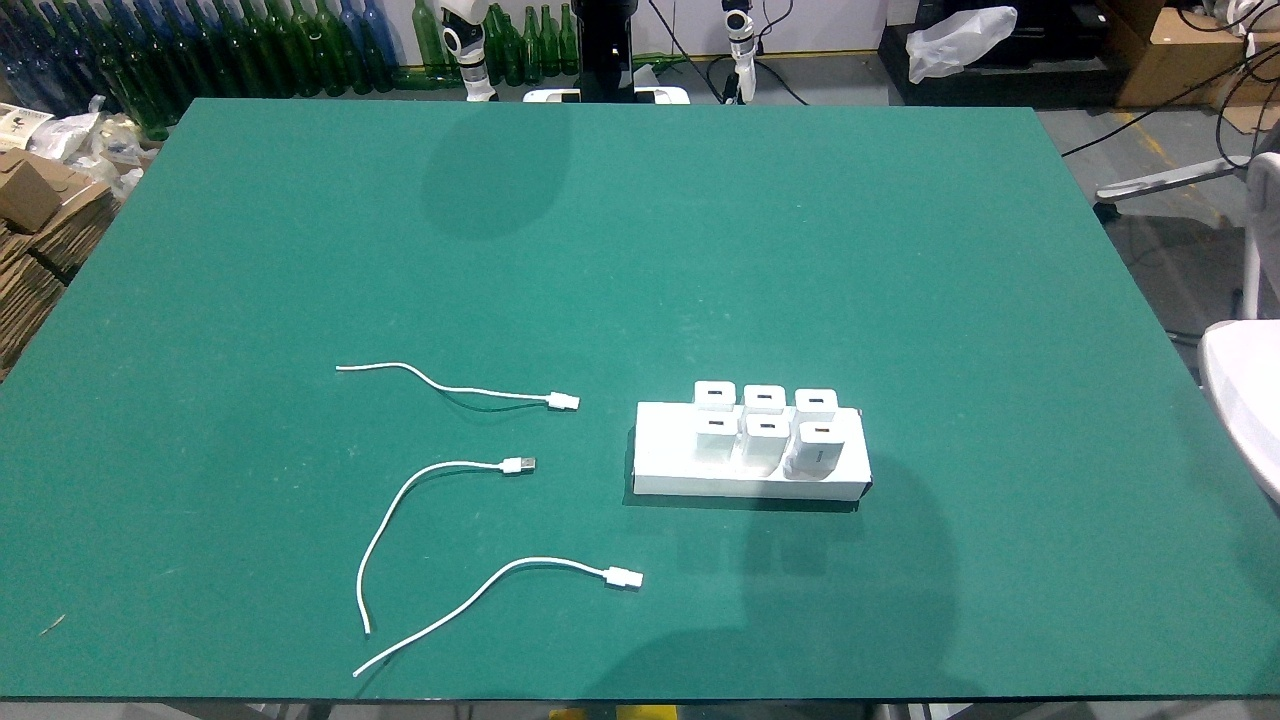usb_a_port: (707, 416, 726, 428), (806, 396, 830, 405), (705, 388, 724, 399), (758, 420, 777, 431), (813, 426, 832, 436), (755, 393, 775, 402)
